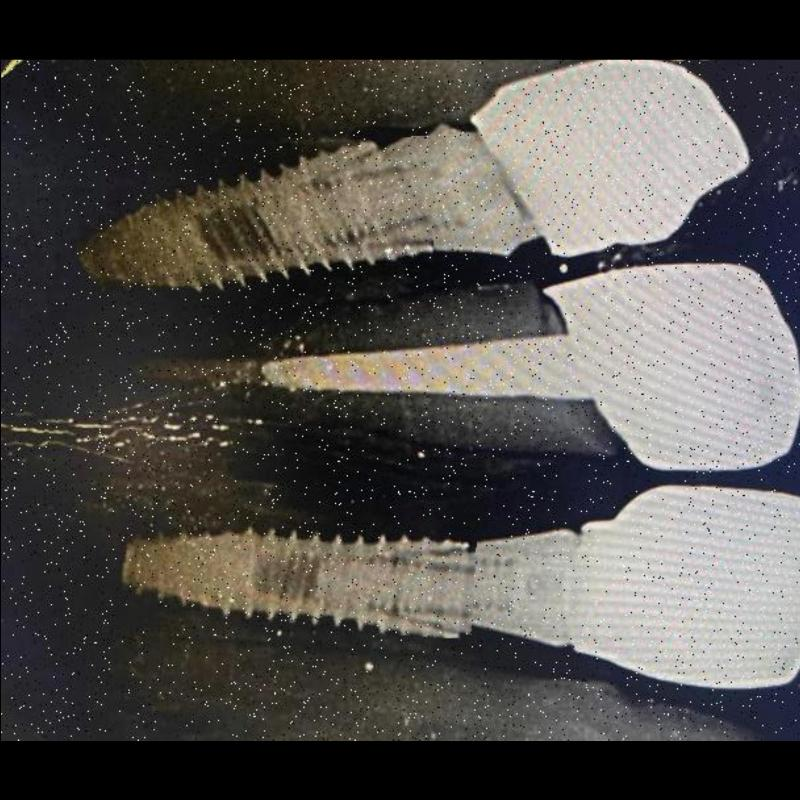osstem: (64, 141, 432, 297), (116, 500, 474, 636)
